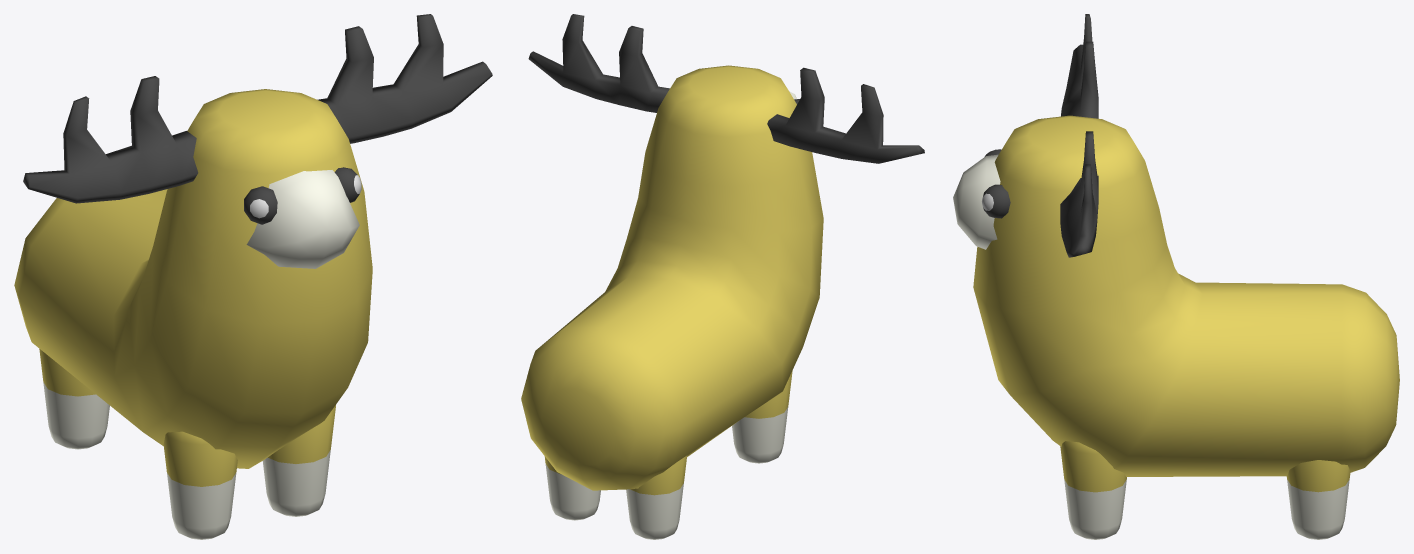
The picture shows the model from 3 angles, left to right: view 1: azimuth 30°, elevation 25°; view 2: azimuth 150°, elevation 25°; view 3: azimuth 270°, elevation 25°; orthographic projection. The views are drawn at different scales.
Visible parts, largest first — view 1: 41; view 2: 41; view 3: 41.
Boxes of the visible parts, x1=… form: 41: x1=14, y1=14, x2=492, y2=539; 41: x1=521, y1=14, x2=924, y2=539; 41: x1=953, y1=14, x2=1399, y2=539.
Bounding box in the file's own units: 371 × 358 × 343.
